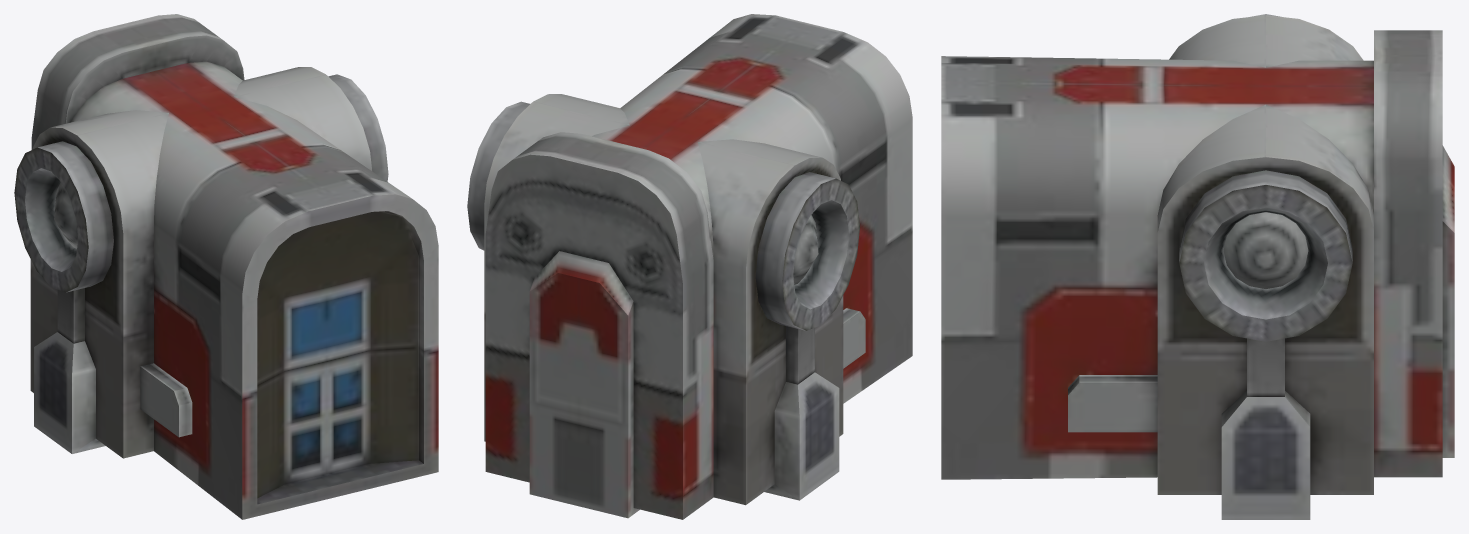
Rendered from Part - Main form 02-Ct-o-2Pr.glb.
3 views of the same model, side by side, from view 1: azimuth 30°, elevation 25°; view 2: azimuth 150°, elevation 25°; view 3: azimuth 270°, elevation 25° (orthographic). The views are drawn at different scales.
Visible parts, largest first — view 1: Main_form_02; view 2: Main_form_02; view 3: Main_form_02.
Part boxes in pixels (x1,y1,x2,y2): Main_form_02: (14, 14, 438, 519); Main_form_02: (467, 14, 912, 519); Main_form_02: (941, 14, 1454, 519).
Size of the model in its own units: 1.89 by 1.96 by 2.41.
Materials: 1 (1 with a texture image).
